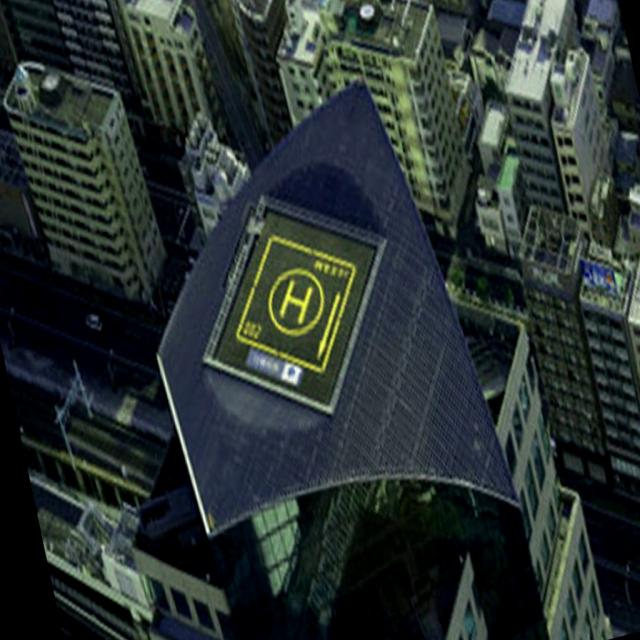helipad: (266, 266, 324, 338)
